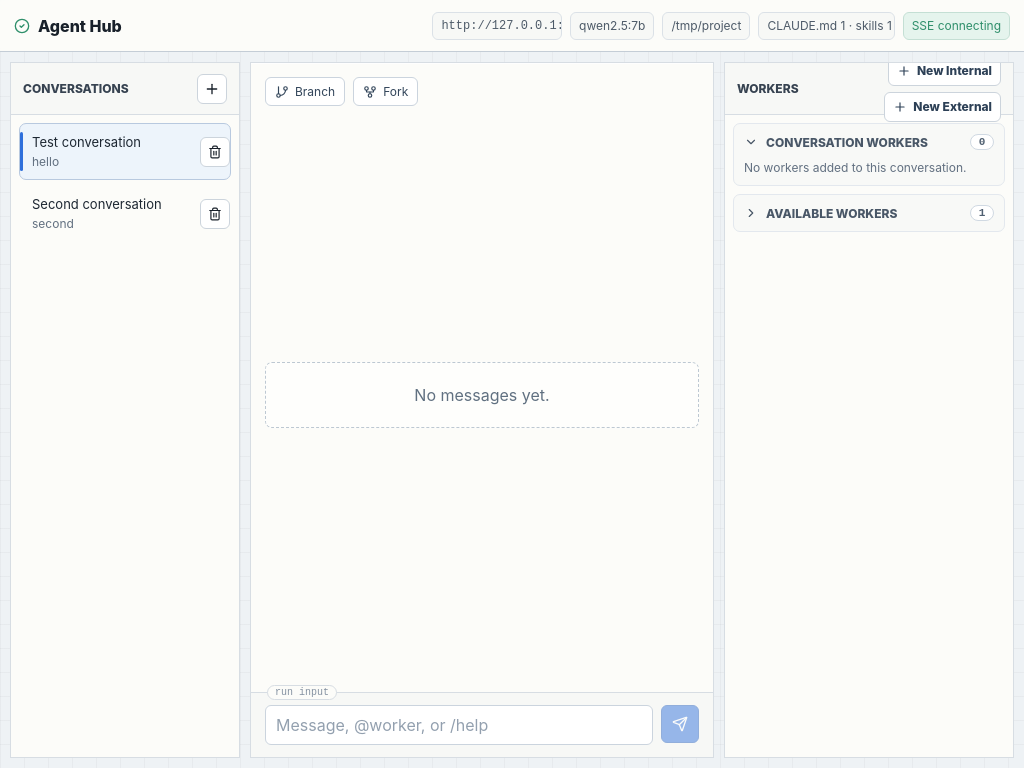
Test: Agent Hub app › deletes a conversation from the sidebar
This screenshot has width=1024, height=768.
Expected: the text "Test conversation" is shown, [32,134,141,150]
Step 1. Click the button named "Delete Test conversation" → (215, 152), box [200,136,230,166]
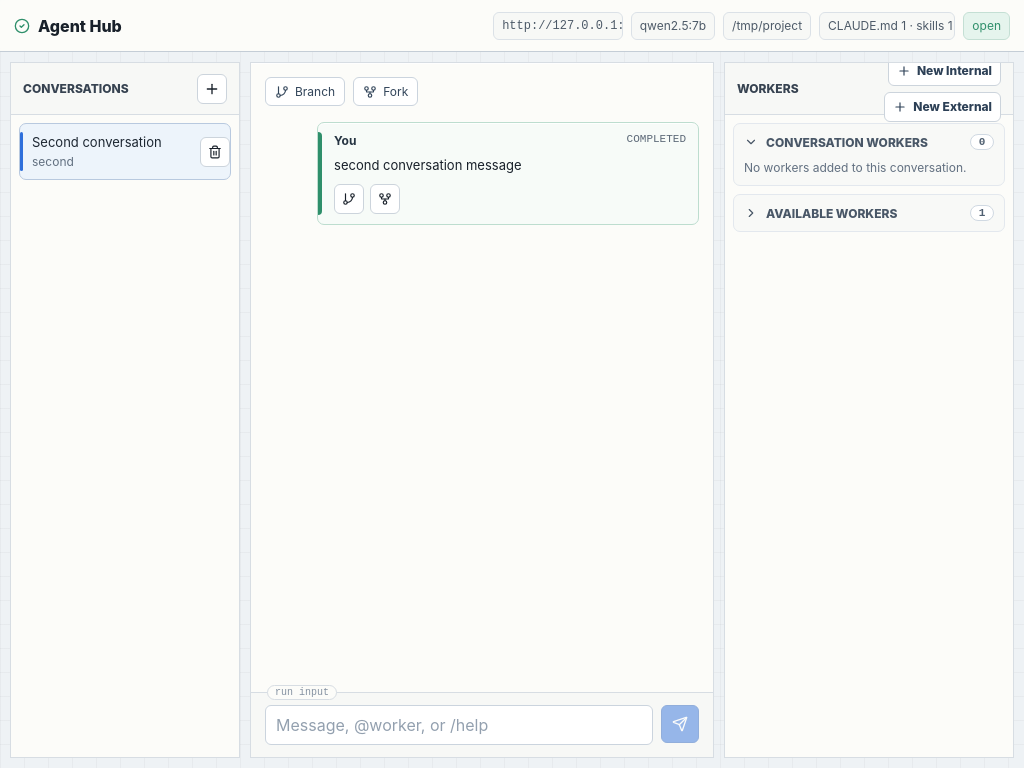
Result: the button "Test conversation" is gone
